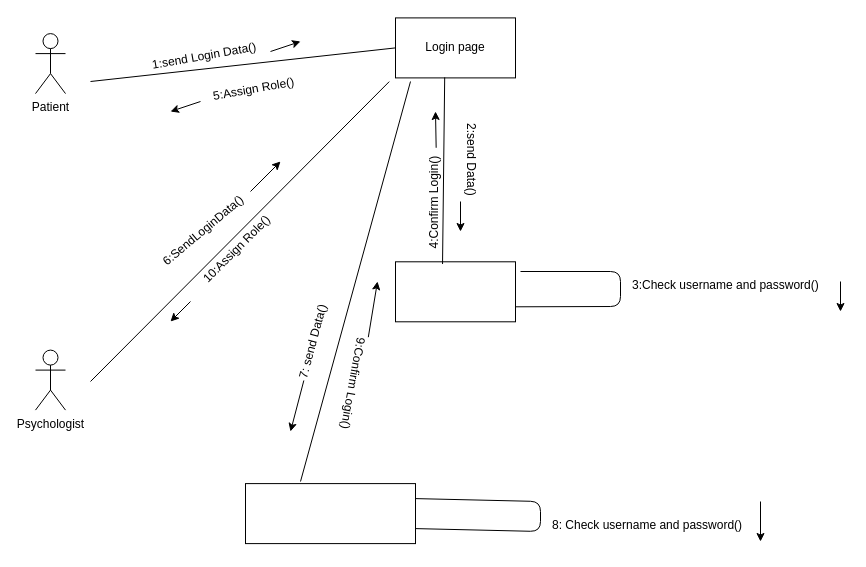
This 866x567 diagram has some shape labels left out. Here are the shapes that lost their labels. From the top down, the box of each, then its label:
(394, 261, 516, 322): UserDatabaseTable
(244, 483, 416, 544): PsychologistDatabaseTable
